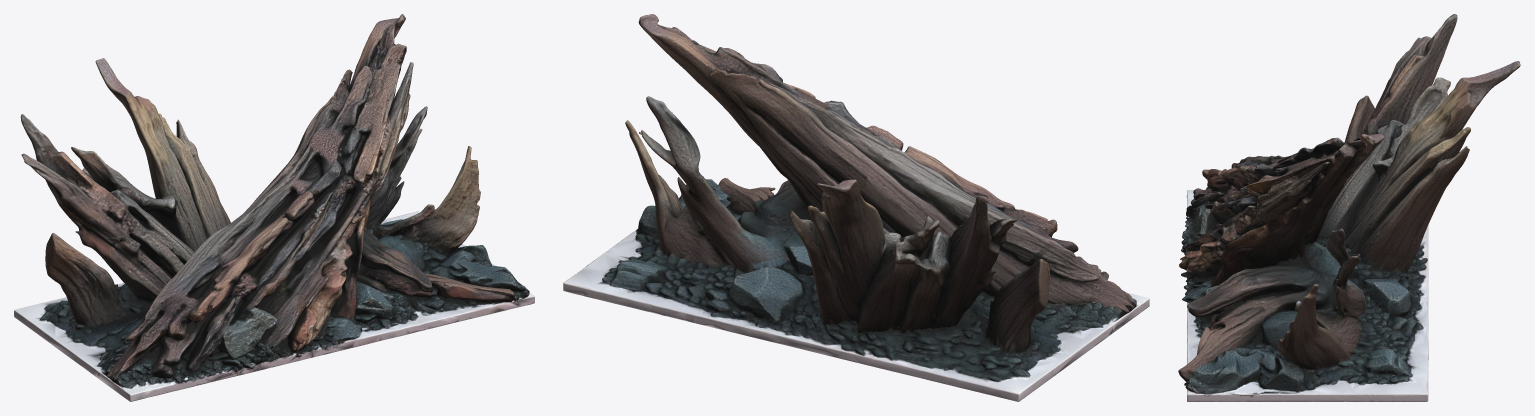
The model's file is nature5-v6.glb.
The picture shows the model from 3 angles, left to right: view 1: azimuth 30°, elevation 25°; view 2: azimuth 150°, elevation 25°; view 3: azimuth 270°, elevation 25°; orthographic projection. The views are drawn at different scales.
Visible parts, largest first — view 1: tripo_node_0478dc63-d948-423f-8247-32ac7d138822; view 2: tripo_node_0478dc63-d948-423f-8247-32ac7d138822; view 3: tripo_node_0478dc63-d948-423f-8247-32ac7d138822.
Boxes of the visible parts, bbox=[...] form: tripo_node_0478dc63-d948-423f-8247-32ac7d138822: bbox=[14, 14, 534, 401]; tripo_node_0478dc63-d948-423f-8247-32ac7d138822: bbox=[563, 14, 1149, 401]; tripo_node_0478dc63-d948-423f-8247-32ac7d138822: bbox=[1178, 14, 1520, 401].
Size of the model in its own units: 0.9842 by 0.5401 by 0.6883.
Materials: 1 (1 with a texture image).
